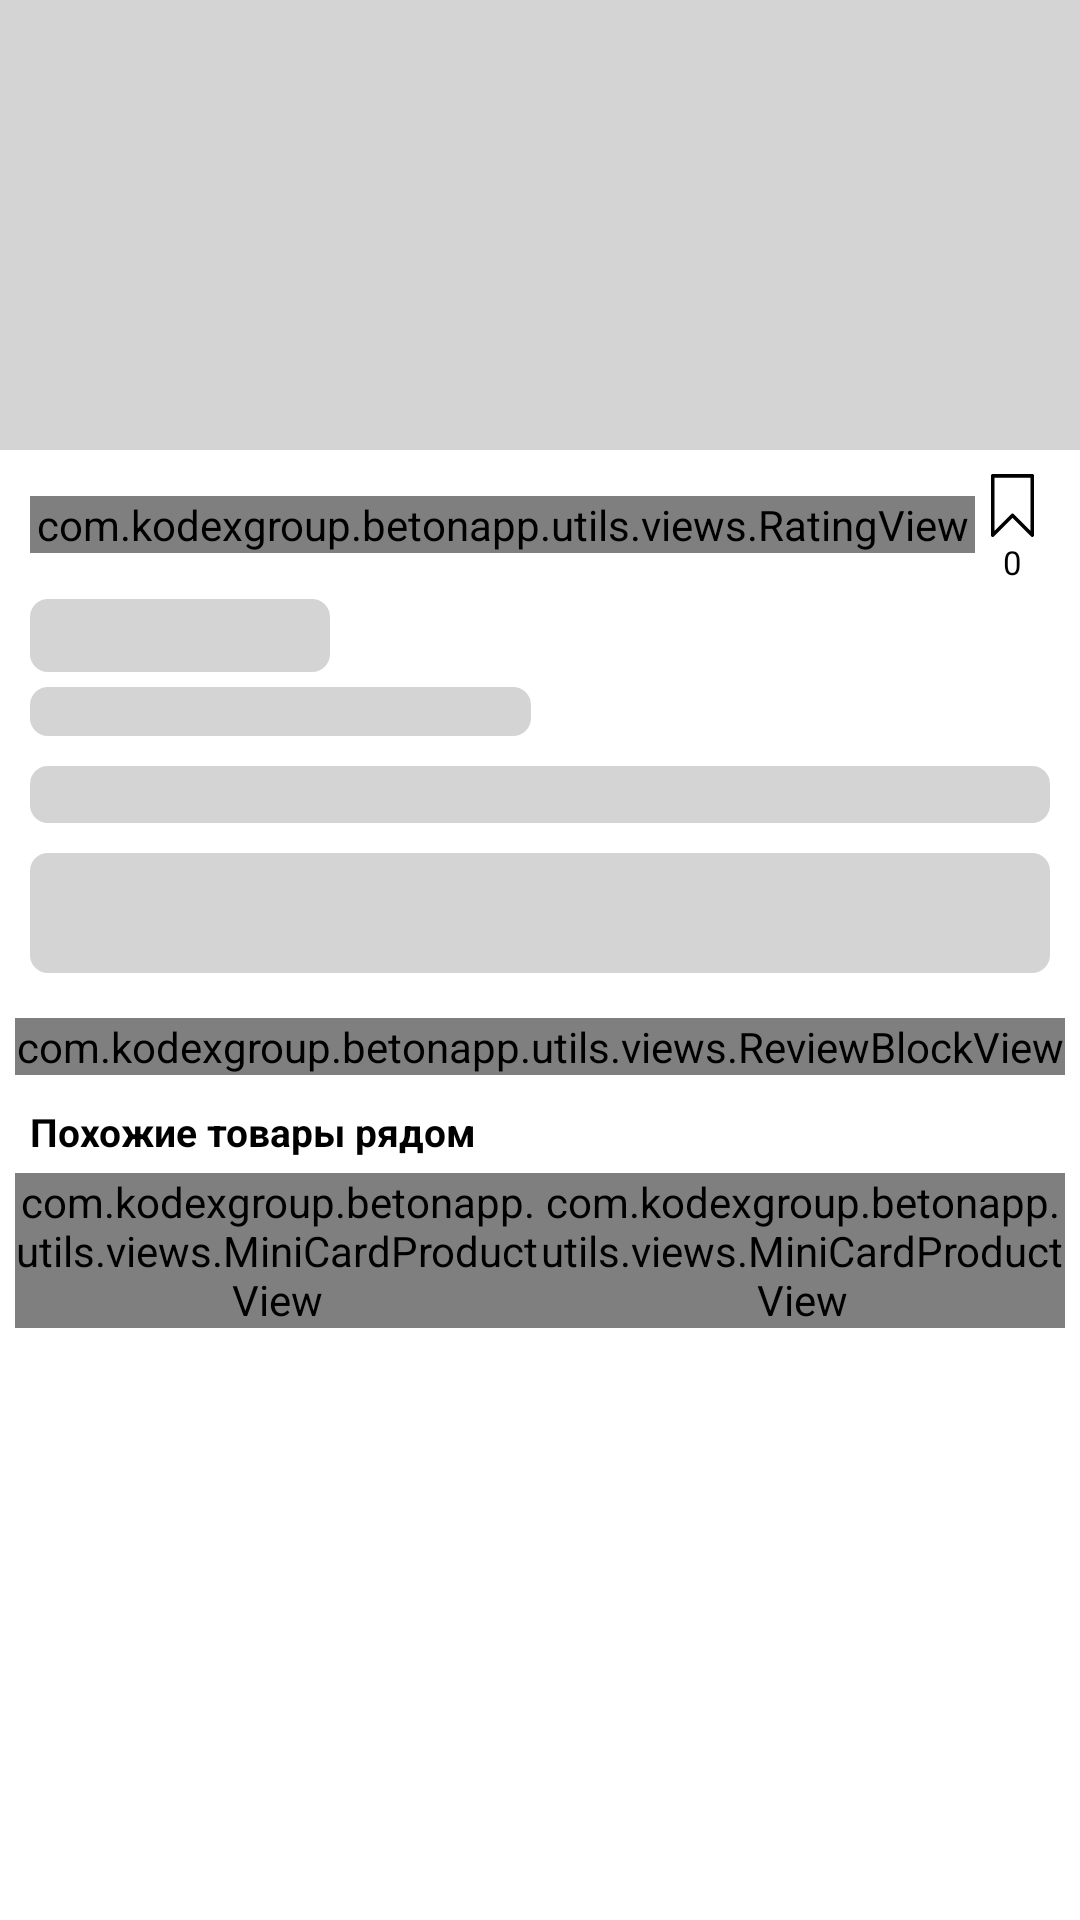

Screen size 1080×1920. Icon name, then its box in pixels as (x1, y1, x2, y2):
bookmark empty: (991, 474, 1034, 537)
